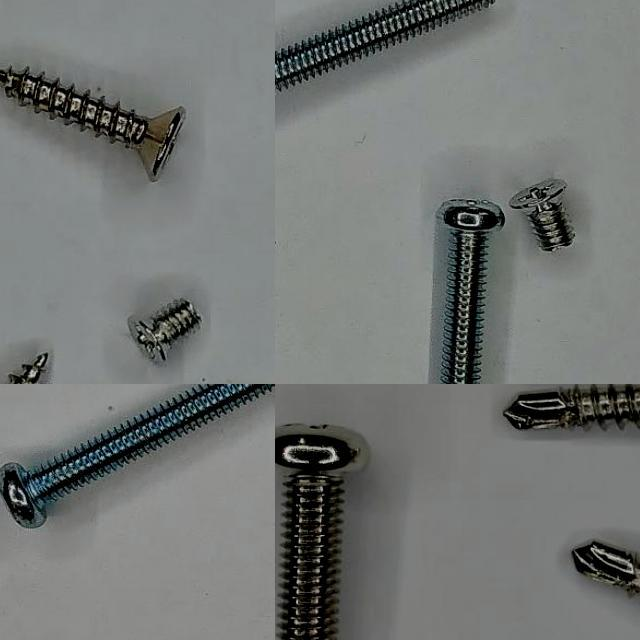Screw: (0, 384, 275, 528), (0, 66, 187, 180), (275, 0, 496, 92), (275, 425, 369, 640), (439, 200, 505, 384), (503, 384, 640, 429), (511, 179, 576, 252), (129, 299, 202, 362), (574, 542, 640, 593)
